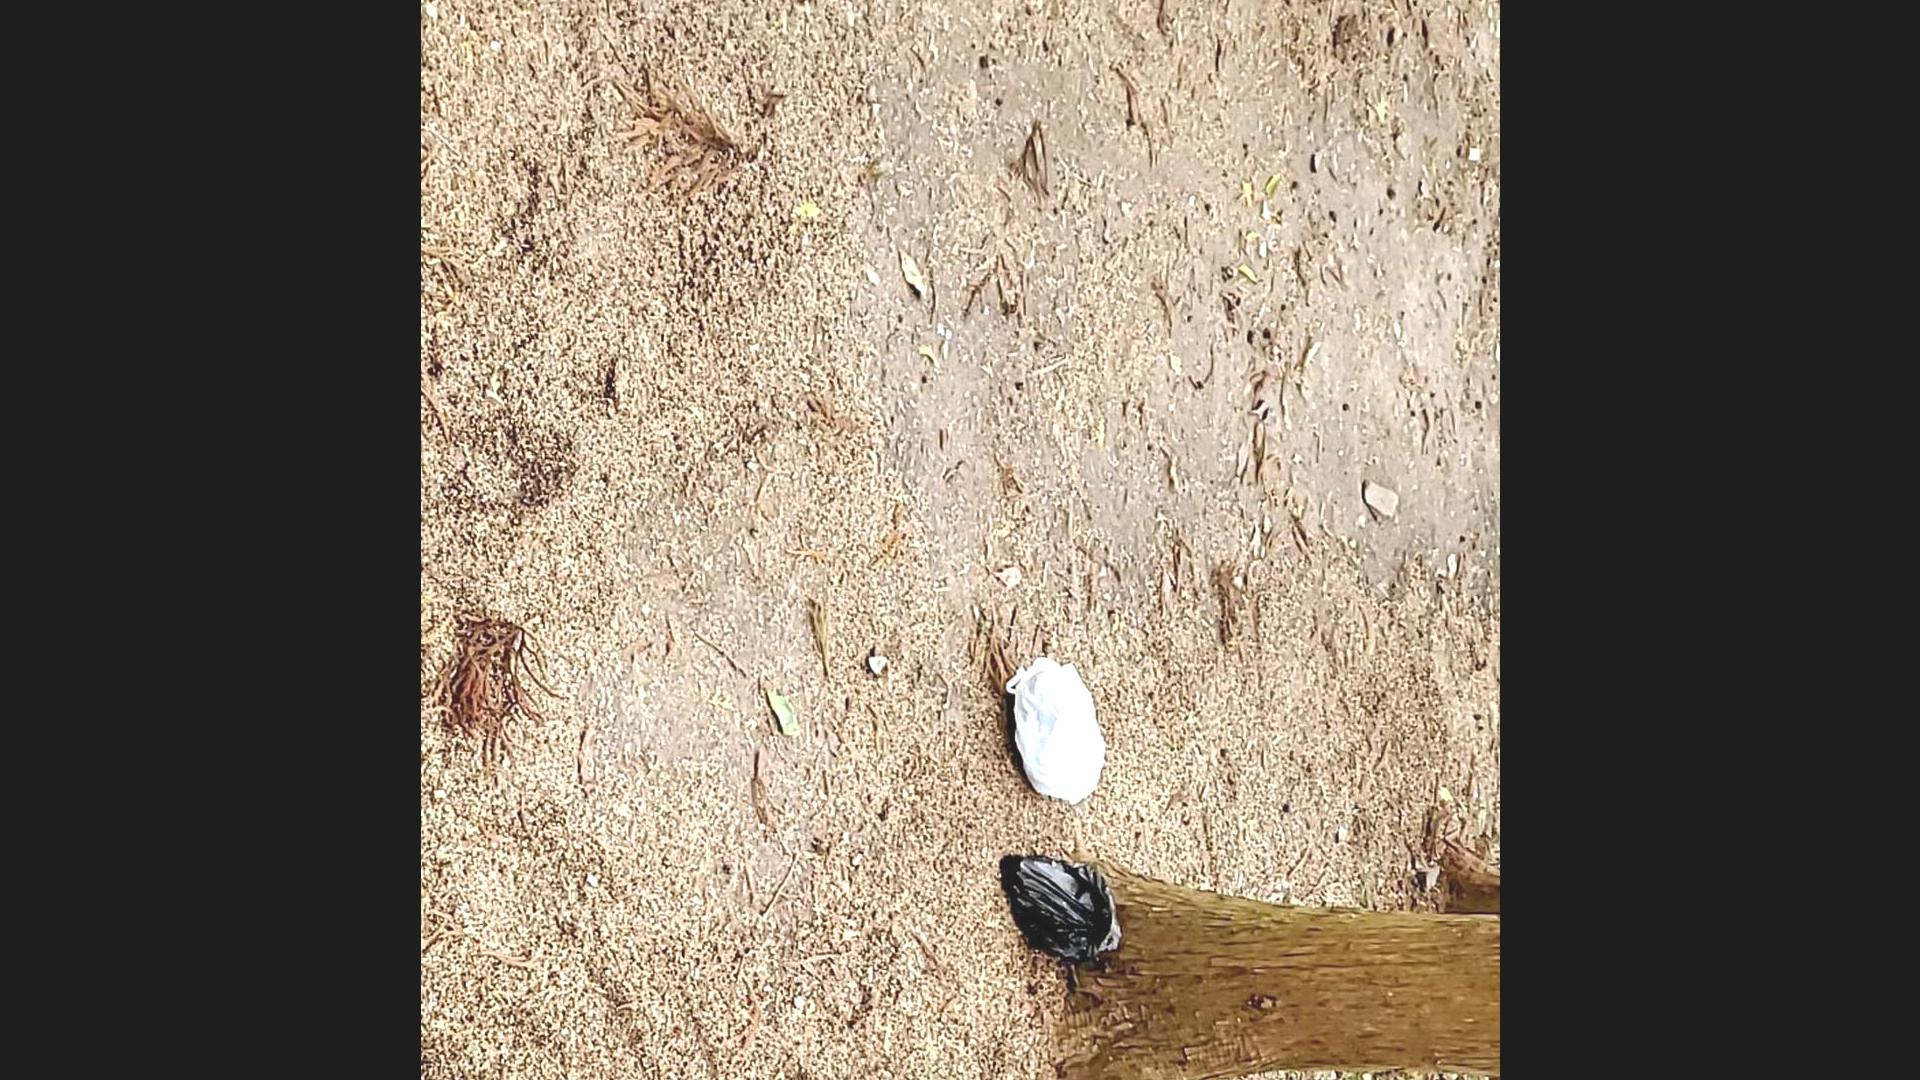black_bag: (993, 843, 1129, 973)
white_bag: (1004, 649, 1112, 810)
